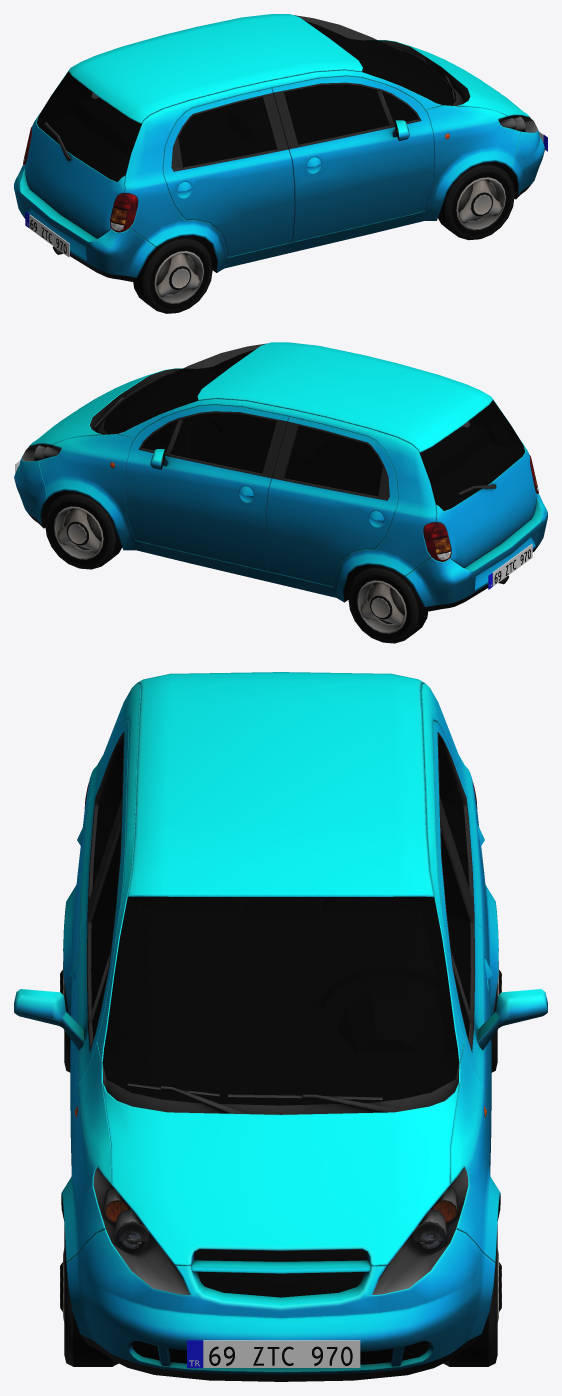
File: CarPlated9228.dae
3 views of the same model, one above another, from view 1: azimuth 30°, elevation 25°; view 2: azimuth 150°, elevation 25°; view 3: azimuth 270°, elevation 25° (orthographic). The views are drawn at different scales.
Visible parts, largest first — view 1: CarPlated9228; view 2: CarPlated9228; view 3: CarPlated9228.
Part boxes in pixels (x1,y1,x2,y2): CarPlated9228: [14, 14, 547, 313]; CarPlated9228: [14, 342, 547, 643]; CarPlated9228: [14, 672, 547, 1381].
Size of the model in its own units: 3.29 by 1.61 by 1.32.
